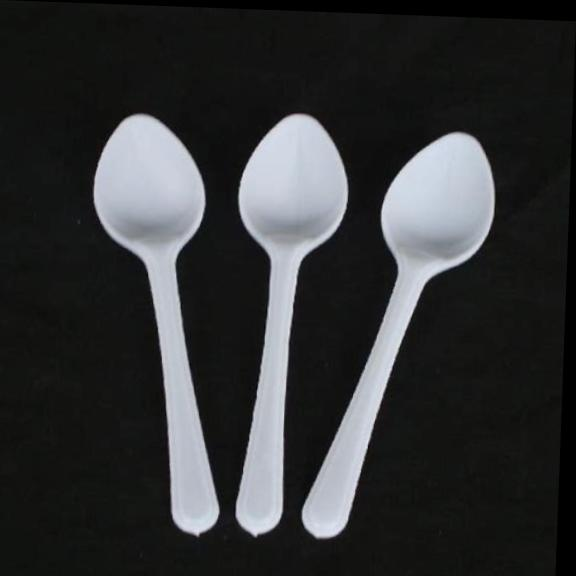Plastik: (302, 133, 494, 538), (94, 115, 218, 534), (237, 115, 347, 535)
